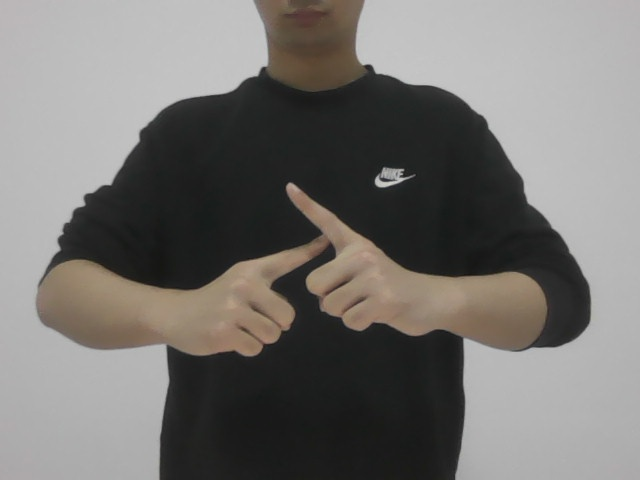peason: (197, 184, 411, 359)
